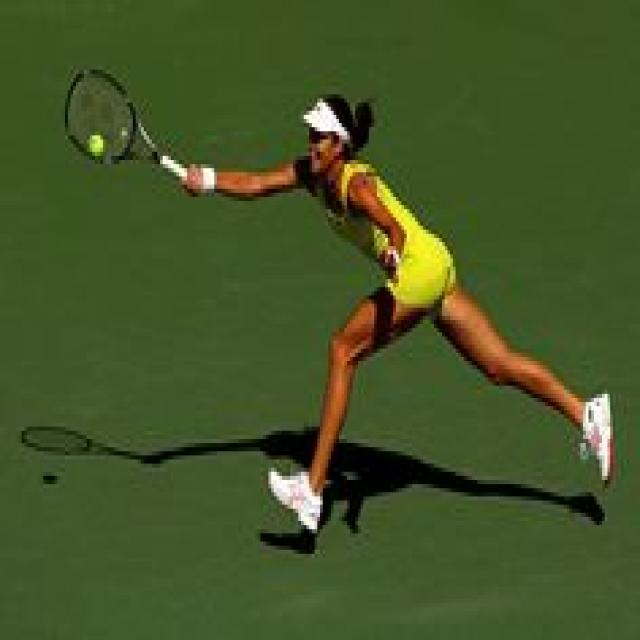tennis: (92, 128, 109, 158)
